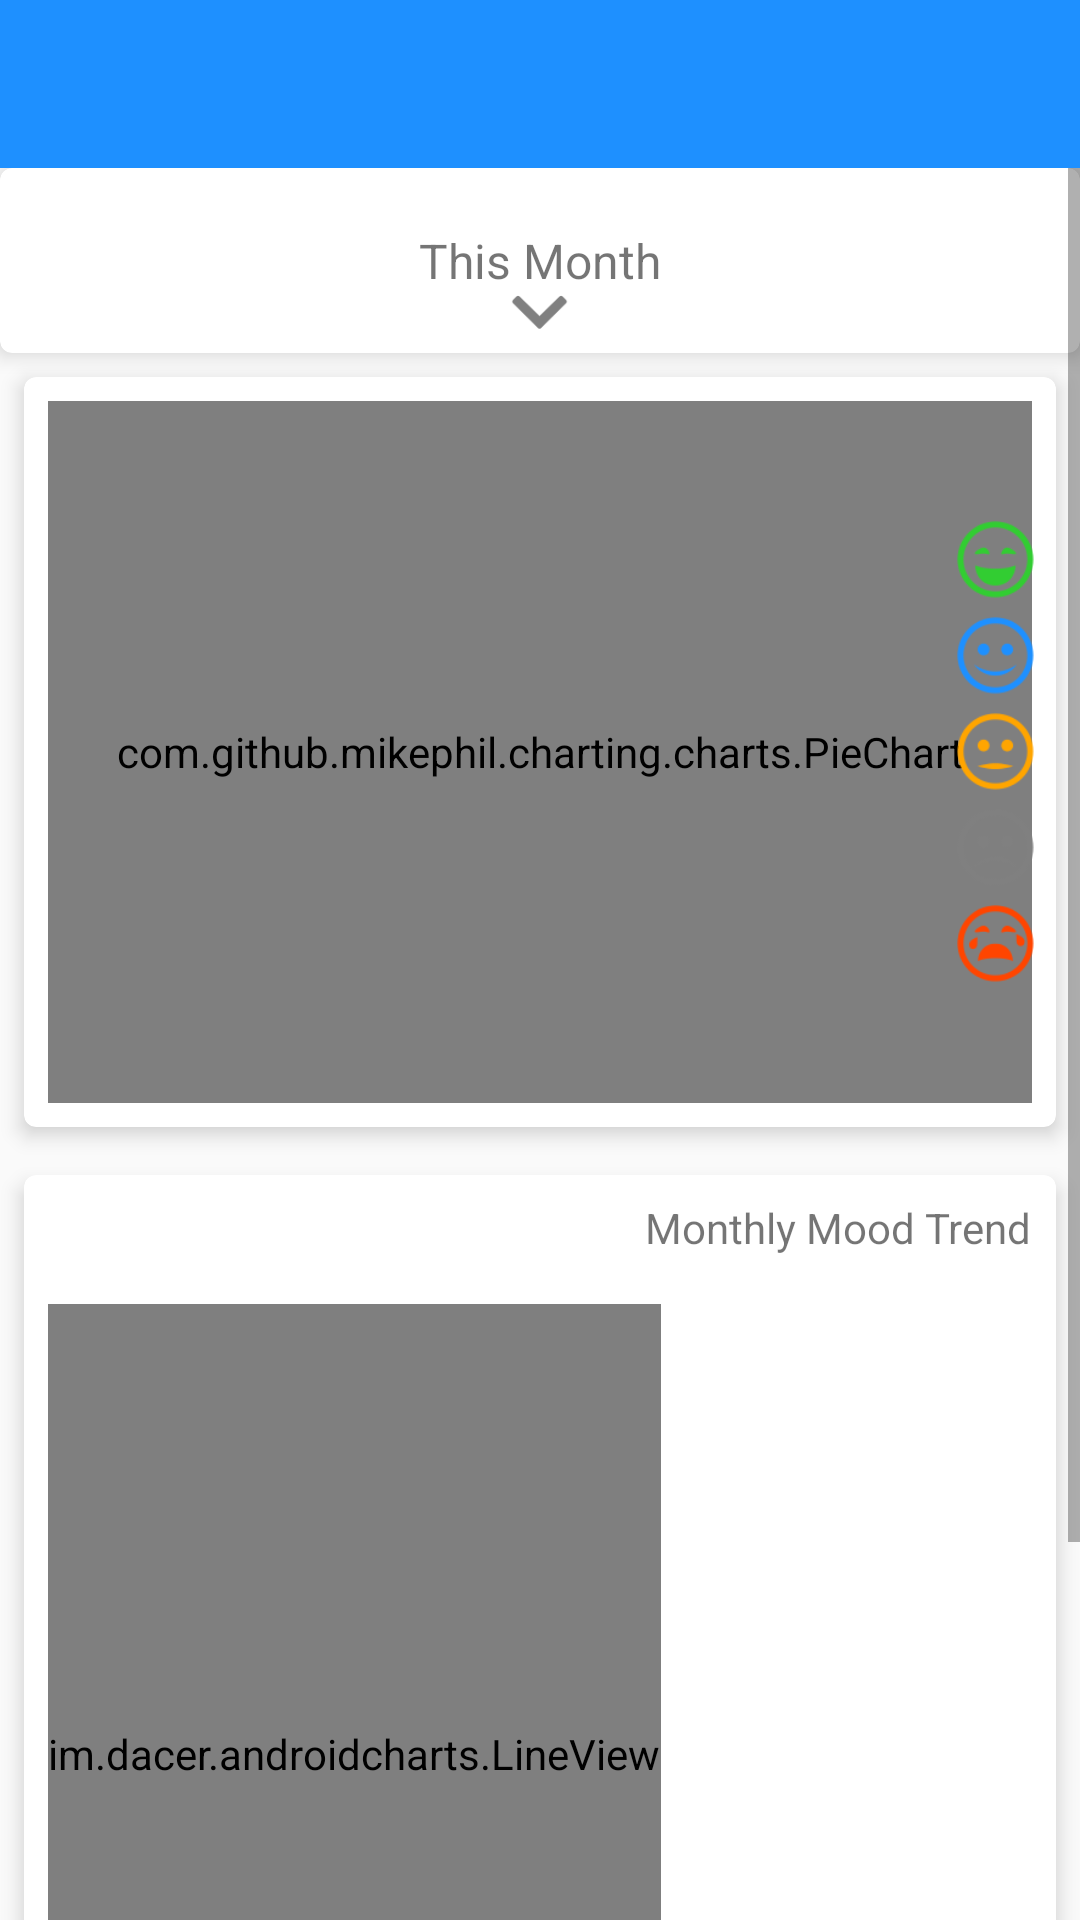

Icon click points for this 1080w x 1920h phone screenshot, format (x=x, y=y):
arrow: (x=539, y=312)
depressed: (x=1000, y=944)
happy: (x=1000, y=656)
neutral: (x=996, y=752)
very happy: (x=1000, y=560)
